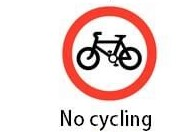Traffic signal: (62, 5, 159, 102)
